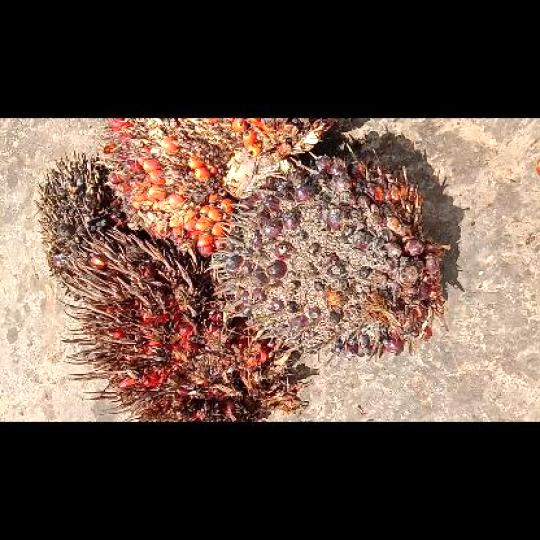kurang masak: (210, 152, 447, 357)
masak: (99, 119, 335, 254)
terlalu masak: (64, 241, 305, 421)
